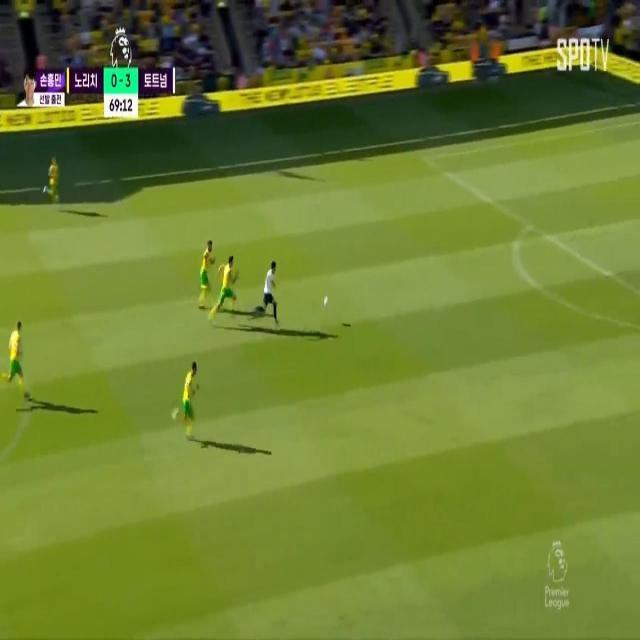ball: (320, 289, 334, 313)
player: (219, 247, 239, 323), (178, 362, 198, 436), (9, 315, 26, 399), (261, 251, 279, 328), (198, 238, 213, 309), (46, 148, 59, 207)
